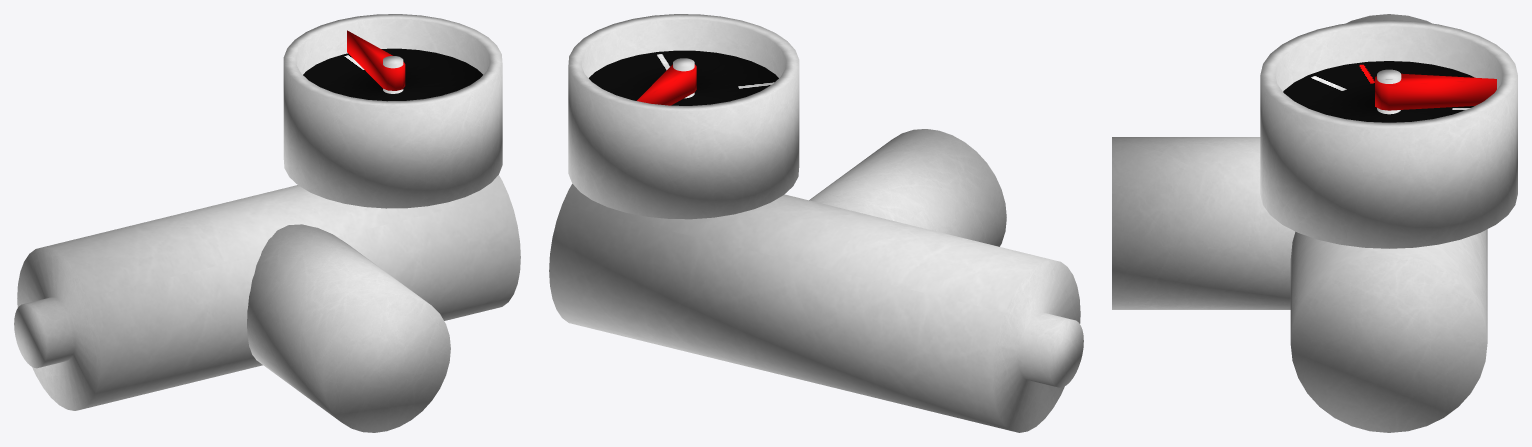
File: guage.fbx
3 renders of one model, left to right at view 1: azimuth 30°, elevation 25°; view 2: azimuth 150°, elevation 25°; view 3: azimuth 270°, elevation 25°, orthographic. The views are drawn at different scales.
Parts seen in each view (by area): view 1: Guage, Needle; view 2: Guage, Needle; view 3: Guage, Needle.
Part boxes in pixels (bbox=[...]): Guage: bbox=[14, 14, 520, 432]; Needle: bbox=[347, 30, 405, 90]; Guage: bbox=[549, 14, 1083, 432]; Needle: bbox=[637, 64, 696, 105]; Guage: bbox=[1112, 14, 1517, 432]; Needle: bbox=[1375, 73, 1496, 110].
Bounding box in the file's own units: 2.68 × 1.47 × 1.75.
